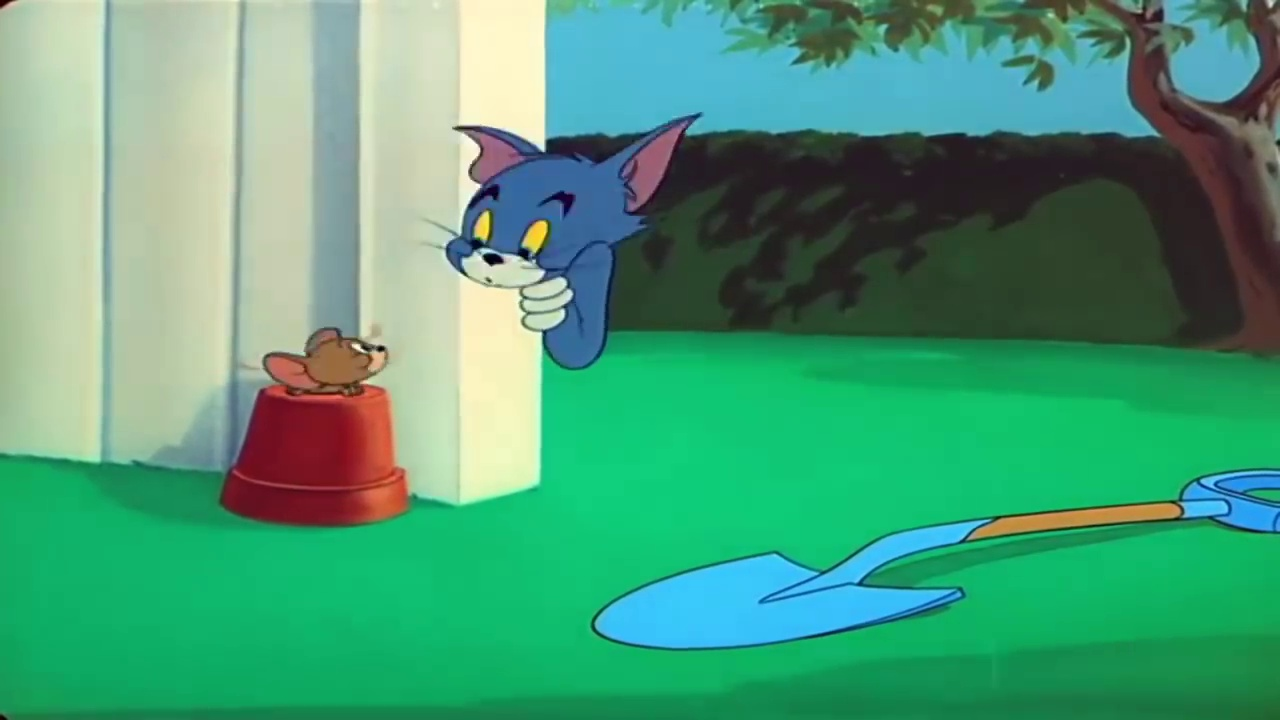tom: (441, 106, 705, 290)
